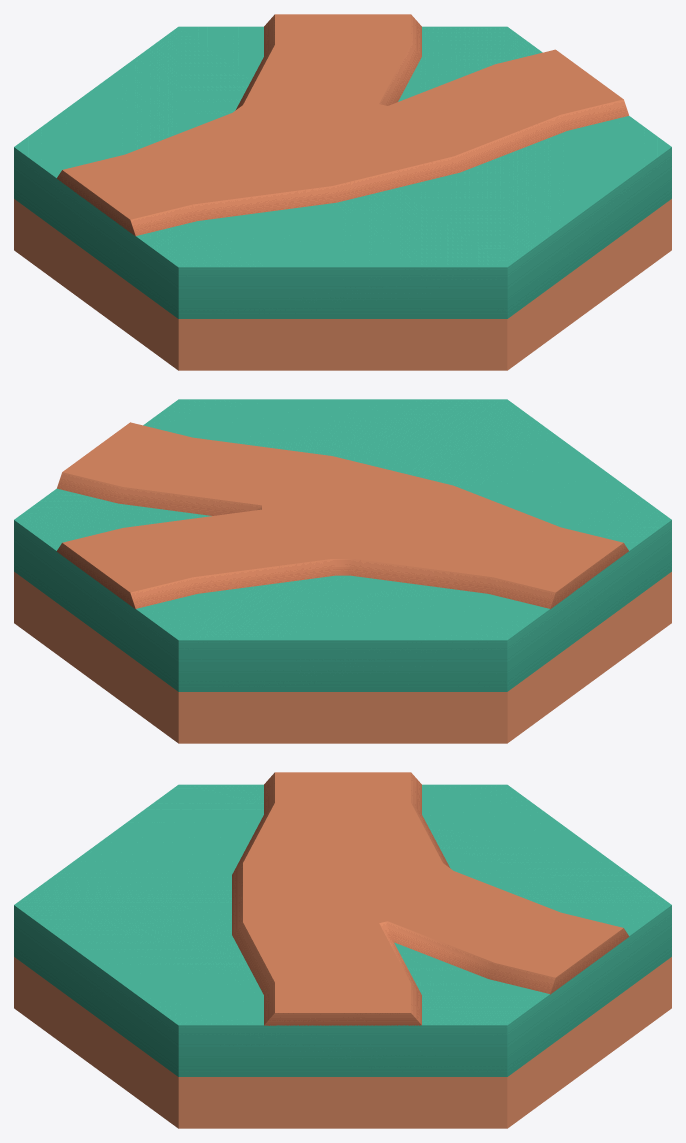
File: grass-path-intersectionB.glb
3 views of the same model, one above another, from view 1: azimuth 30°, elevation 25°; view 2: azimuth 150°, elevation 25°; view 3: azimuth 270°, elevation 25° (orthographic).
Visible parts, largest first — view 1: grass, path-intersectionB; view 2: grass, path-intersectionB; view 3: grass, path-intersectionB.
Part boxes in pixels (<box>): grass: <box>14,26,671,370</box>; path-intersectionB: <box>57,14,628,236</box>; grass: <box>14,399,671,743</box>; path-intersectionB: <box>56,422,628,609</box>; grass: <box>14,784,671,1128</box>; path-intersectionB: <box>232,772,629,1025</box>.
Bounding box in the file's own units: 1 × 0.224 × 1.15.
1 material, 1 textured.
